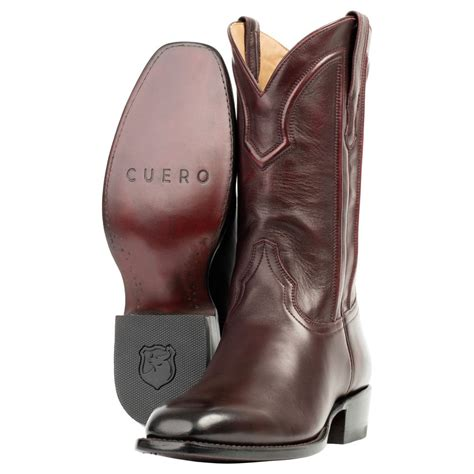cuero: (136, 10, 369, 463)
